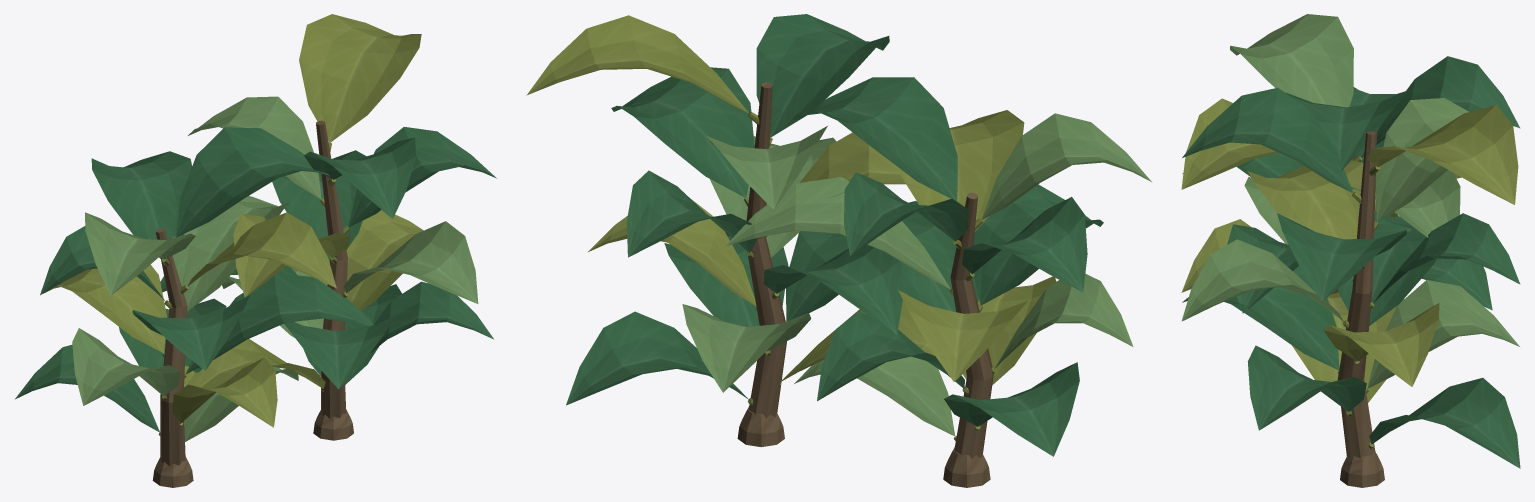
File: AST-BOT-002_pool_middle_01.glb
The picture shows the model from 3 angles, left to right: view 1: azimuth 30°, elevation 25°; view 2: azimuth 150°, elevation 25°; view 3: azimuth 270°, elevation 25°; orthographic projection. The views are drawn at different scales.
Parts seen in each view (by area): view 1: RT_AST-BOT-002_pool_middle_01__leaf_jade, RT_AST-BOT-002_pool_middle_01__leaf_olive, RT_AST-BOT-002_pool_middle_01__leaf_sage, RT_AST-BOT-002_pool_middle_01__bark; view 2: RT_AST-BOT-002_pool_middle_01__leaf_jade, RT_AST-BOT-002_pool_middle_01__leaf_sage, RT_AST-BOT-002_pool_middle_01__leaf_olive, RT_AST-BOT-002_pool_middle_01__bark; view 3: RT_AST-BOT-002_pool_middle_01__leaf_jade, RT_AST-BOT-002_pool_middle_01__leaf_sage, RT_AST-BOT-002_pool_middle_01__leaf_olive, RT_AST-BOT-002_pool_middle_01__bark.
Boxes of the visible parts, left/top/right/bottom form: RT_AST-BOT-002_pool_middle_01__leaf_jade: left=15, top=127, right=496, bottom=432; RT_AST-BOT-002_pool_middle_01__leaf_olive: left=43, top=14, right=423, bottom=436; RT_AST-BOT-002_pool_middle_01__leaf_sage: left=72, top=96, right=478, bottom=441; RT_AST-BOT-002_pool_middle_01__bark: left=152, top=120, right=353, bottom=487; RT_AST-BOT-002_pool_middle_01__leaf_jade: left=566, top=14, right=1103, bottom=456; RT_AST-BOT-002_pool_middle_01__leaf_sage: left=682, top=113, right=1152, bottom=436; RT_AST-BOT-002_pool_middle_01__leaf_olive: left=526, top=15, right=1056, bottom=441; RT_AST-BOT-002_pool_middle_01__bark: left=737, top=82, right=993, bottom=487; RT_AST-BOT-002_pool_middle_01__leaf_jade: left=1182, top=56, right=1520, bottom=468; RT_AST-BOT-002_pool_middle_01__leaf_sage: left=1181, top=14, right=1519, bottom=388; RT_AST-BOT-002_pool_middle_01__leaf_olive: left=1181, top=98, right=1518, bottom=448; RT_AST-BOT-002_pool_middle_01__bark: left=1332, top=131, right=1384, bottom=487.
Size of the model in its own units: 1.2 by 0.9429 by 0.74.
Materials: 4 (4 with a texture image).
